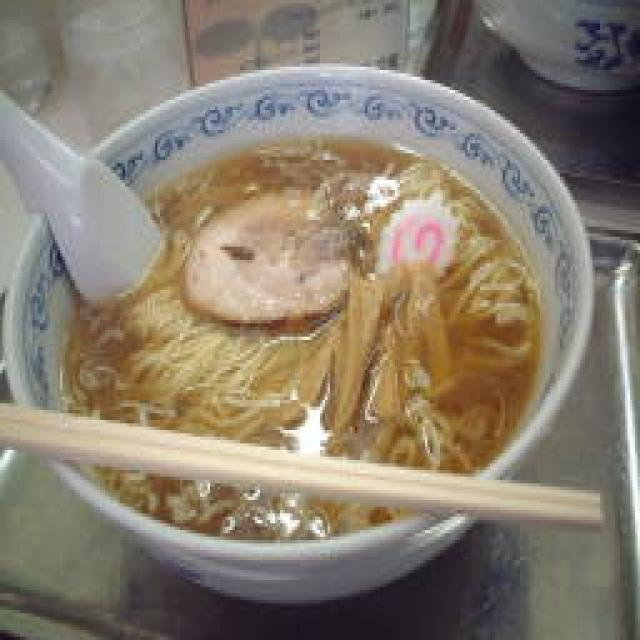面条主食: (2, 57, 590, 590)
